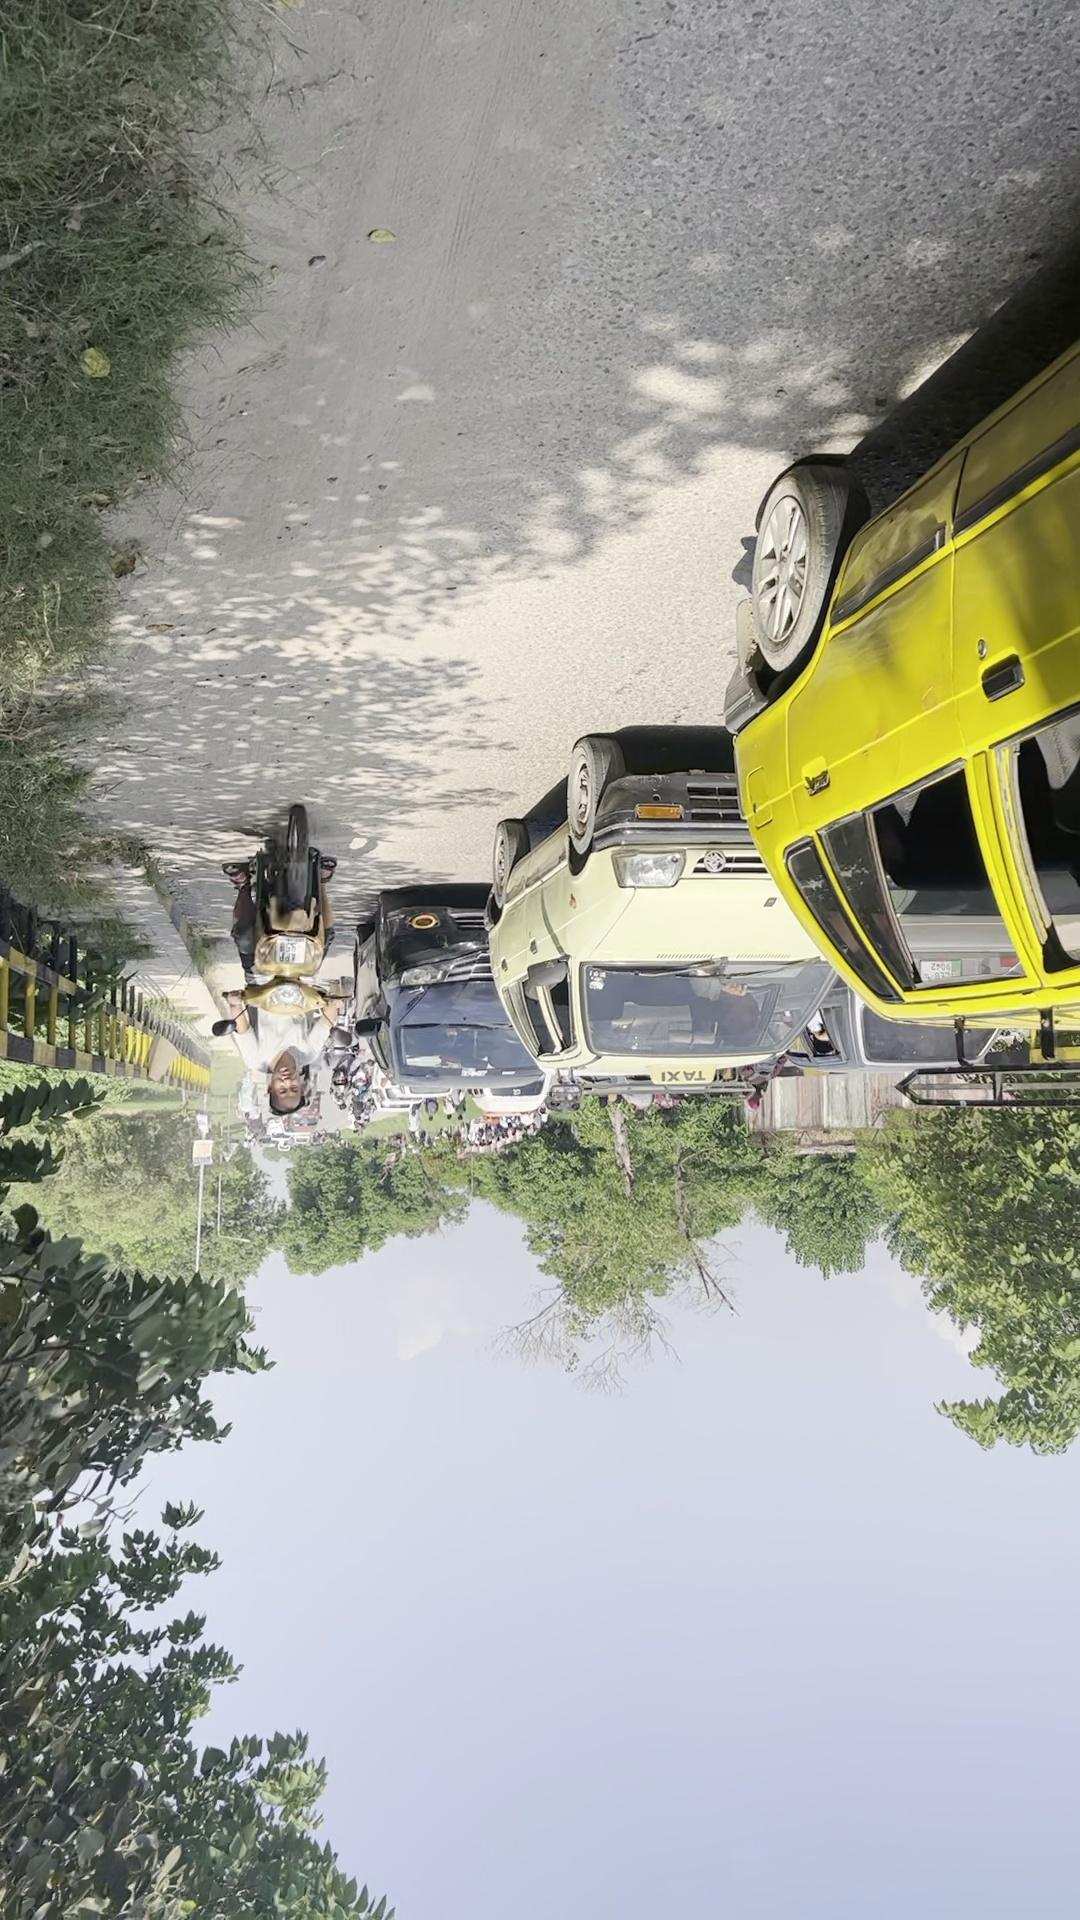windshield: (251, 858, 496, 972)
